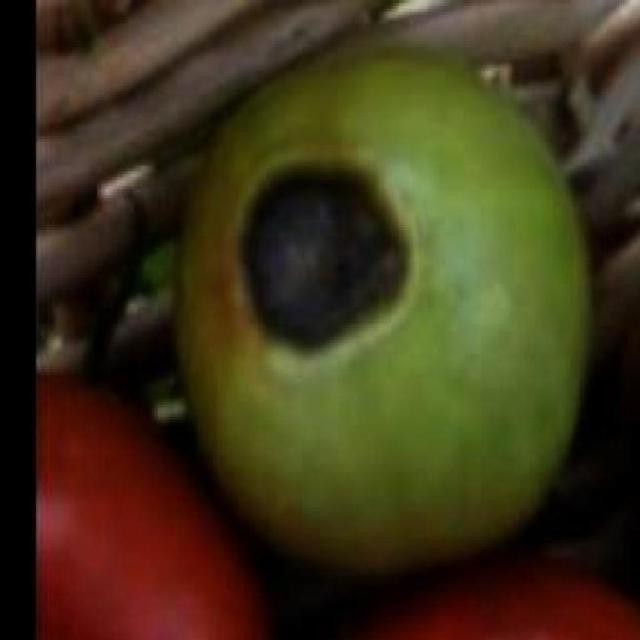Blossom End Rot Fruit: (155, 99, 282, 259)
